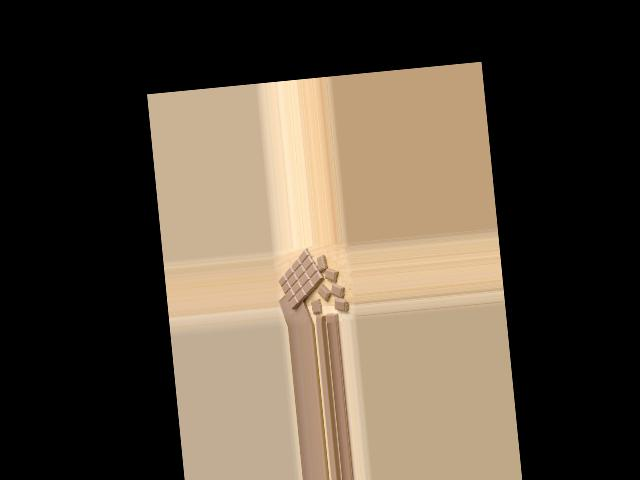chocolate: (275, 248, 328, 310)
